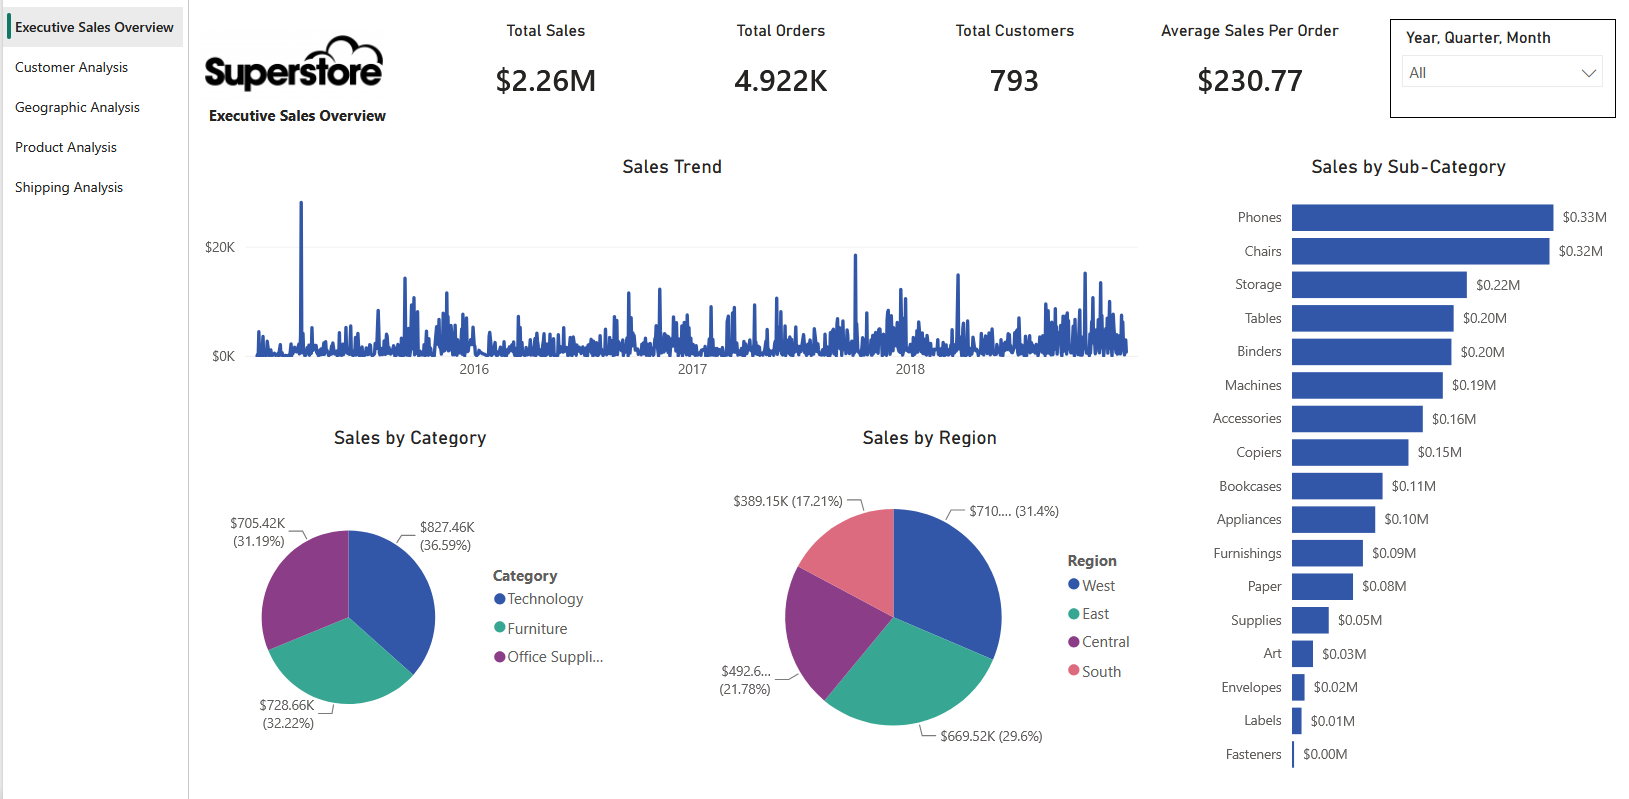

The dashboard page shown, as its layout file describes it:
{"tool":"powerbi","page":{"name":"Executive Sales Overview","canvas":[1280,720],"ordinal":0},"visuals":[{"type":"cardVisual","title":"Total Sales","fields":{"Data":["Sum(Super Store Dataset.Sales)"]},"box":[200,16,232,96],"z":0},{"type":"cardVisual","title":"Total Orders","fields":{"Data":["Count(Super Store Dataset.Order ID)"]},"box":[416,16,192,96],"z":1000},{"type":"cardVisual","title":"Total Customers","fields":{"Data":["Super Store Dataset.Total Customers"]},"box":[616,16,136,96],"z":2000},{"type":"cardVisual","title":"Average Sales Per Order","fields":{"Data":["Avg(Super Store Dataset.Sales)"]},"box":[792,16,200,96],"z":3000},{"type":"pieChart","title":"Sales by Category","fields":{"Category":["Super Store Dataset.Category"],"Y":["Sum(Super Store Dataset.Sales)"]},"box":[8,368,416,336],"z":4000},{"type":"barChart","title":"Sales by Sub-Category","fields":{"Category":["Super Store Dataset.Sub-Category"],"Y":["Sum(Super Store Dataset.Sales)"]},"box":[896,128,368,576],"z":5000},{"type":"pieChart","title":"Sales by Region","fields":{"Category":["Super Store Dataset.Region"],"Y":["Sum(Super Store Dataset.Sales)"]},"box":[432,368,416,336],"z":6000},{"type":"lineChart","title":"Sales Trend","fields":{"Y":["Sum(Super Store Dataset.Sales)"],"Category":["Super Store Dataset.Order Date"]},"box":[8,128,840,224],"z":7000},{"type":"slicer","title":"Filter by","fields":{"Values":["Super Store Dataset.Order Date Hierarchy.Year","Super Store Dataset.Order Date Hierarchy.Quarter","Super Store Dataset.Order Date Hierarchy.Month"]},"box":[1064,24,200,88],"z":8000},{"type":"image","box":[8,16,168,96],"z":9000},{"type":"textbox","box":[0,96,192,32],"z":10000}]}

Visuals, with their boxes on the page's 1280x720 design canvas (x1, y1, x2, y2). These are canvas units, not pixel positions in the 1629x799 screenshot, which may show the page scaled, cropped or inside an application window:
"Total Sales" cardVisual: bbox=(200, 16, 432, 112)
"Total Orders" cardVisual: bbox=(416, 16, 608, 112)
"Total Customers" cardVisual: bbox=(616, 16, 752, 112)
"Average Sales Per Order" cardVisual: bbox=(792, 16, 992, 112)
"Sales by Category" pieChart: bbox=(8, 368, 424, 704)
"Sales by Sub-Category" barChart: bbox=(896, 128, 1264, 704)
"Sales by Region" pieChart: bbox=(432, 368, 848, 704)
"Sales Trend" lineChart: bbox=(8, 128, 848, 352)
"Filter by" slicer: bbox=(1064, 24, 1264, 112)
image: bbox=(8, 16, 176, 112)
textbox: bbox=(0, 96, 192, 128)
